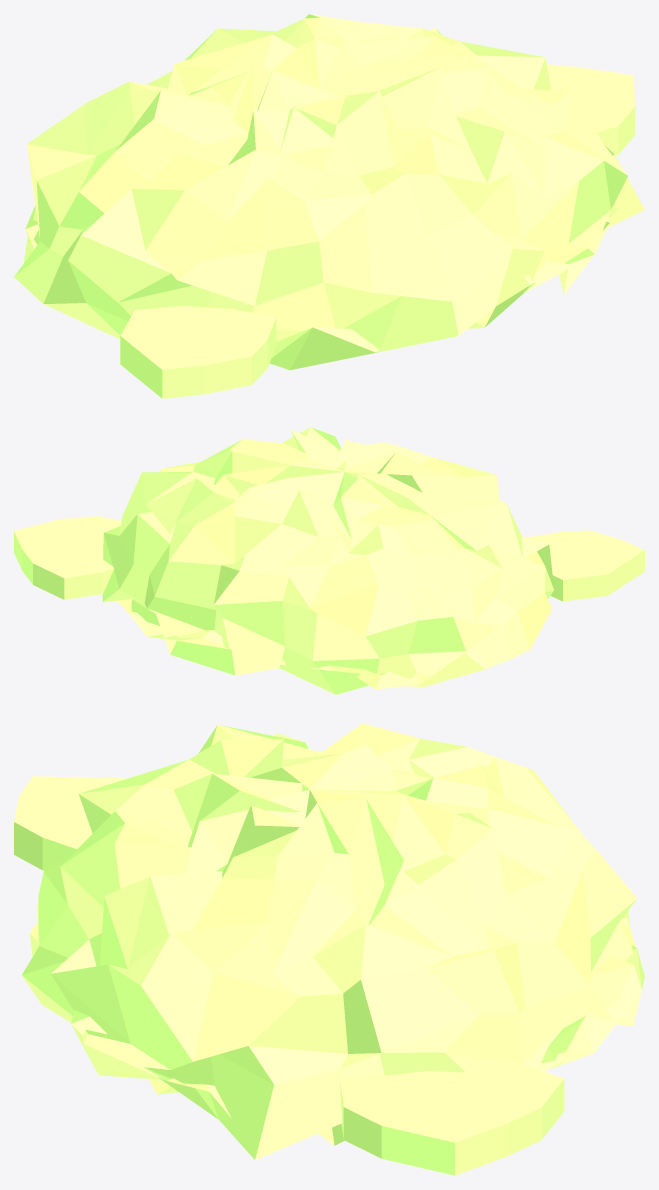
The model's file is glow_slime.glb.
3 renders of one model, top to bottom at view 1: azimuth 30°, elevation 25°; view 2: azimuth 150°, elevation 25°; view 3: azimuth 270°, elevation 25°, orthographic. The views are drawn at different scales.
Visible parts, largest first — view 1: model; view 2: model; view 3: model.
Part boxes in pixels (box(x1,y1,x2,y2)): model: box(14, 14, 644, 398); model: box(14, 427, 644, 694); model: box(14, 723, 644, 1175).
Bounding box in the file's own units: 0.2863 × 0.0818 × 0.2084.
